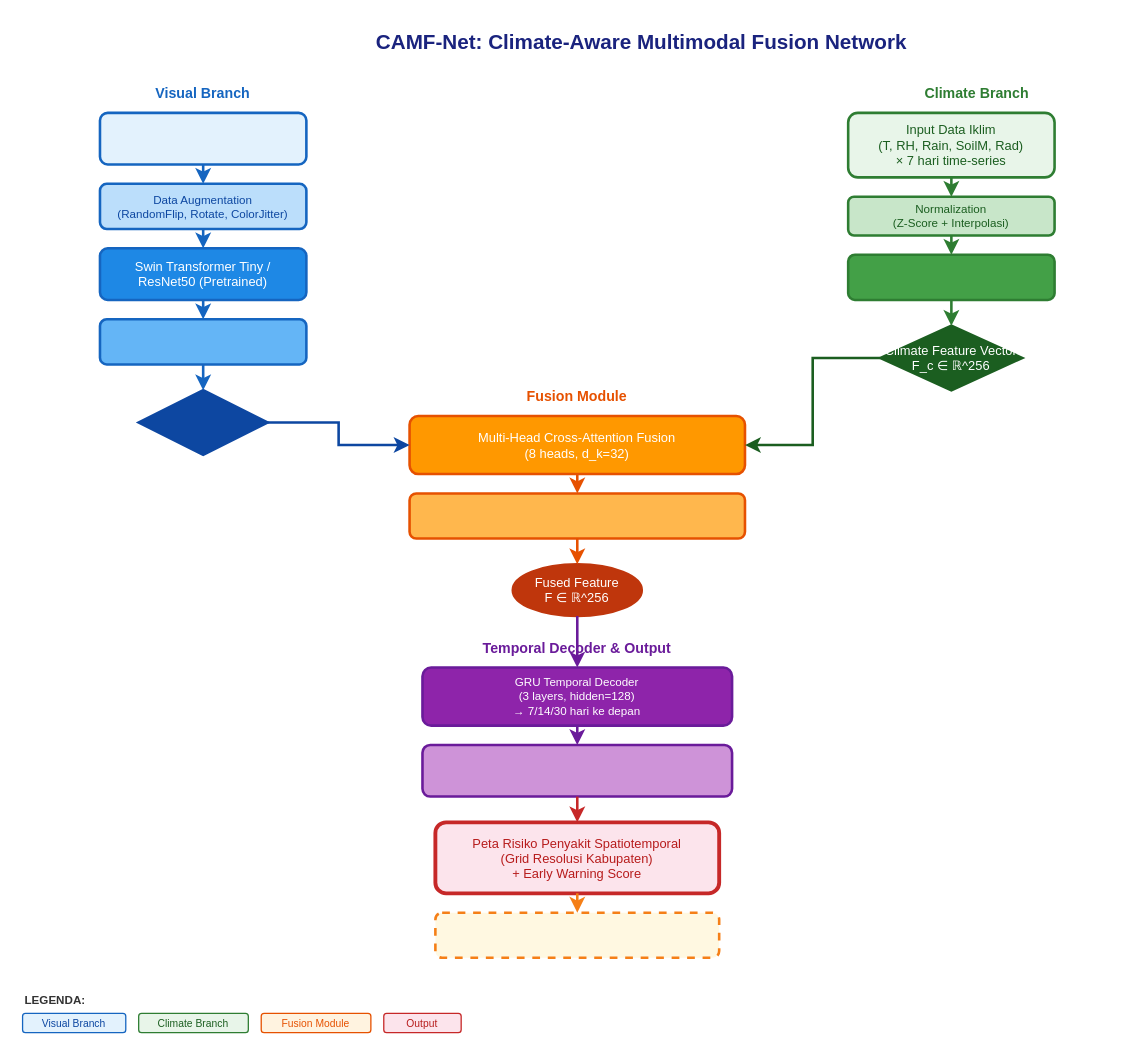
Some shapes in this 1129 by 1055 pixel diagram are drawn without their labels. The centre of each missing label's shape, as x and y in pixels:
"Add & LayerNorm + FFN (d_ff=512)" belongs at point (577, 515).
"Global Avg Pooling + Projection (d_model=256)" belongs at point (202, 341).
"Input Citra RGB (224x224x3)" belongs at point (202, 138).
"Risk Level Classifier (MLP: 256→128→7) Softmax × 7 kelas penyakit" belongs at point (577, 770).
"TimesFormer / BiLSTM Encoder" belongs at point (950, 277).
"Visual Feature Vector F_v ∈ ℝ^256" belongs at point (202, 421).
"XA: Grad-CAM (visual) + SHAP (climate contribution)" belongs at point (576, 934).
